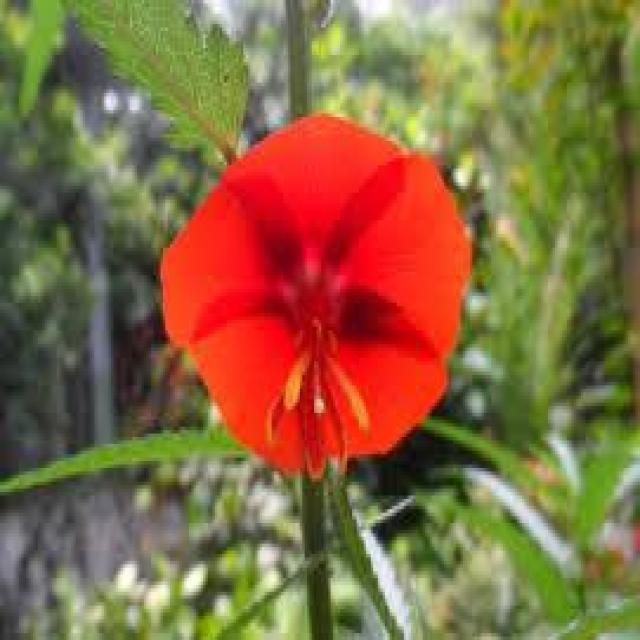organic waste: (156, 110, 467, 458)
